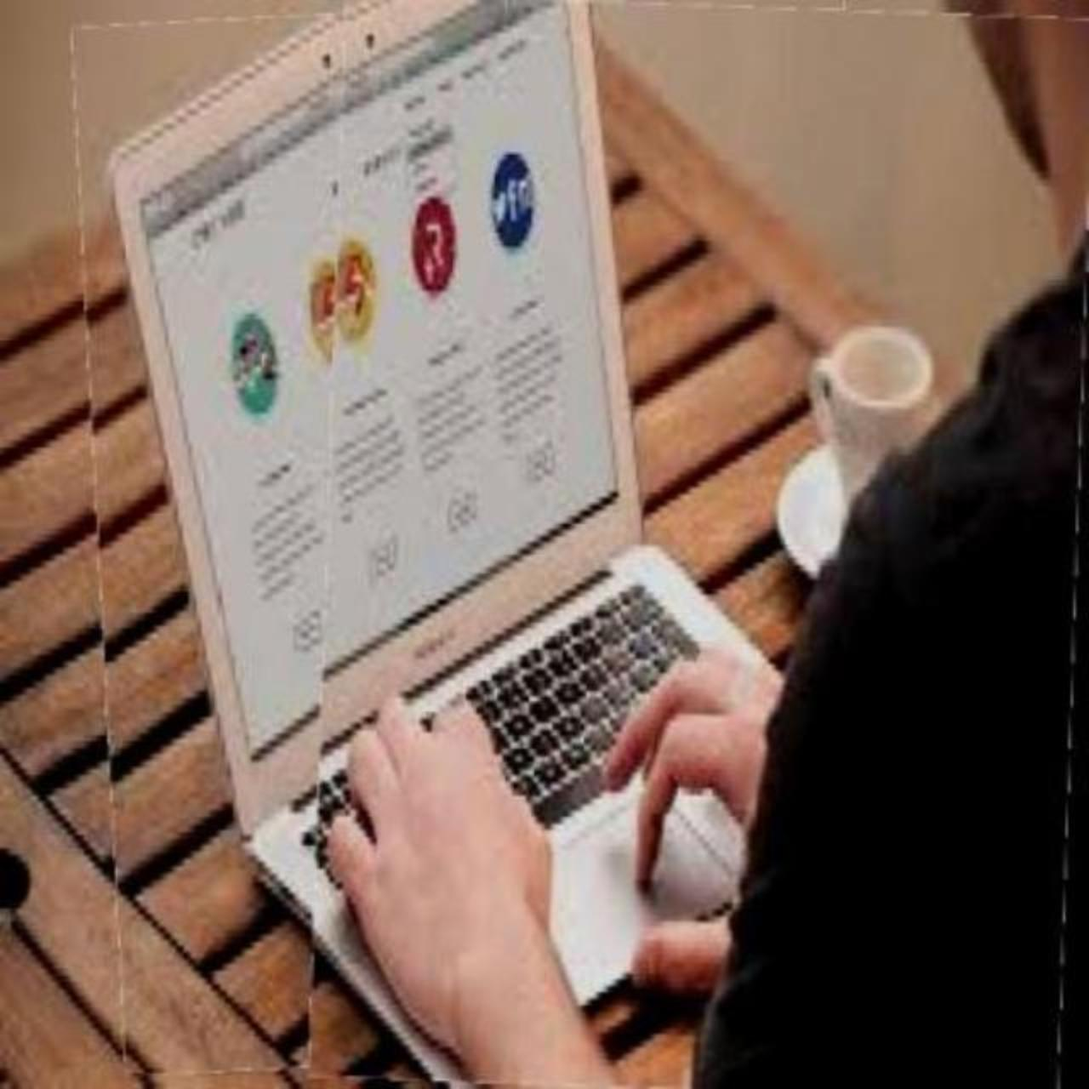laptop: (86, 0, 884, 1065)
